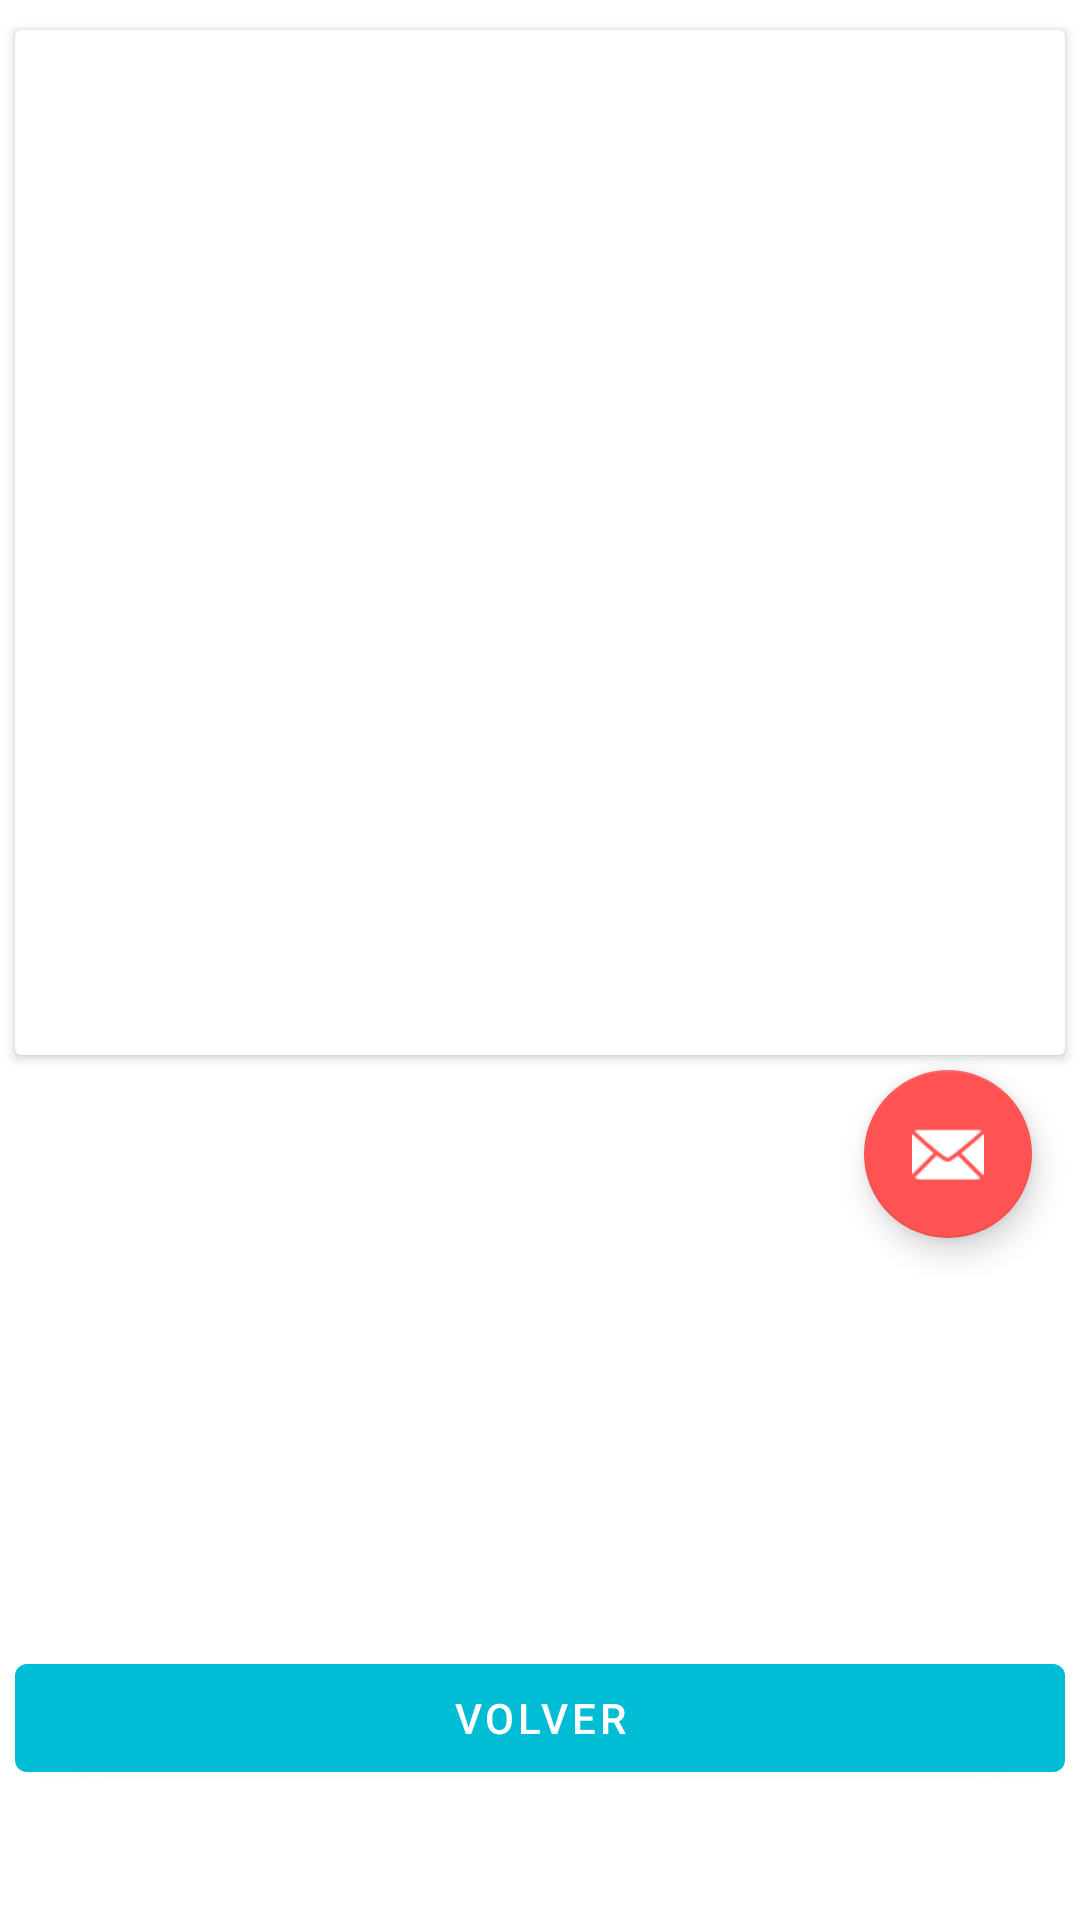

Icon bounding boxes for this 1080×1920 phone screenshot, format bbox(x1, y1, x2, y2):
email: bbox(864, 1070, 1032, 1238)
